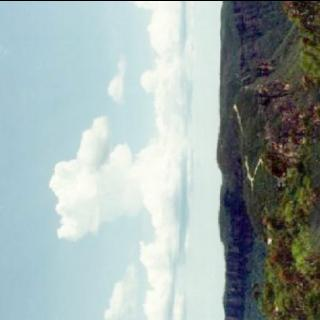Cumulus: (0, 0, 238, 320)
